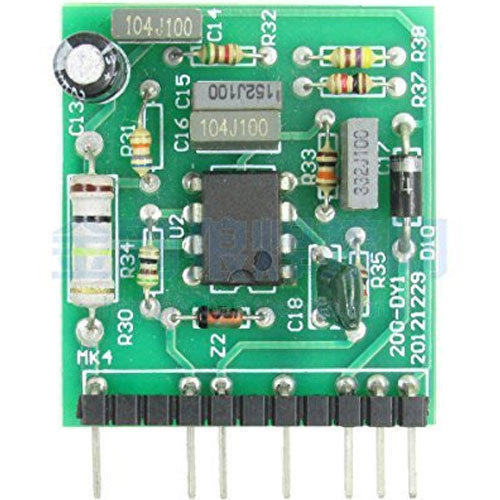capacitor: (48, 24, 142, 124)
